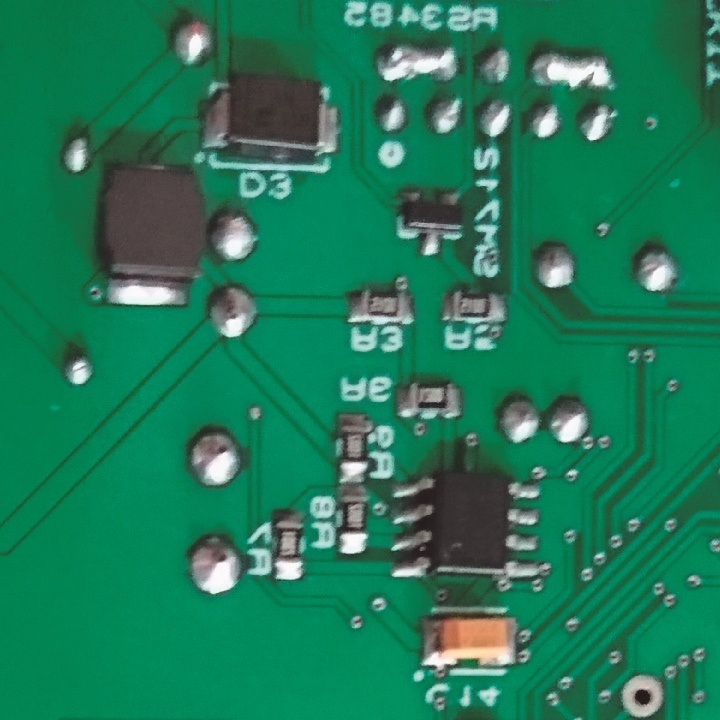F: (619, 672, 662, 718)
P: (530, 46, 614, 93), (379, 38, 459, 83)
